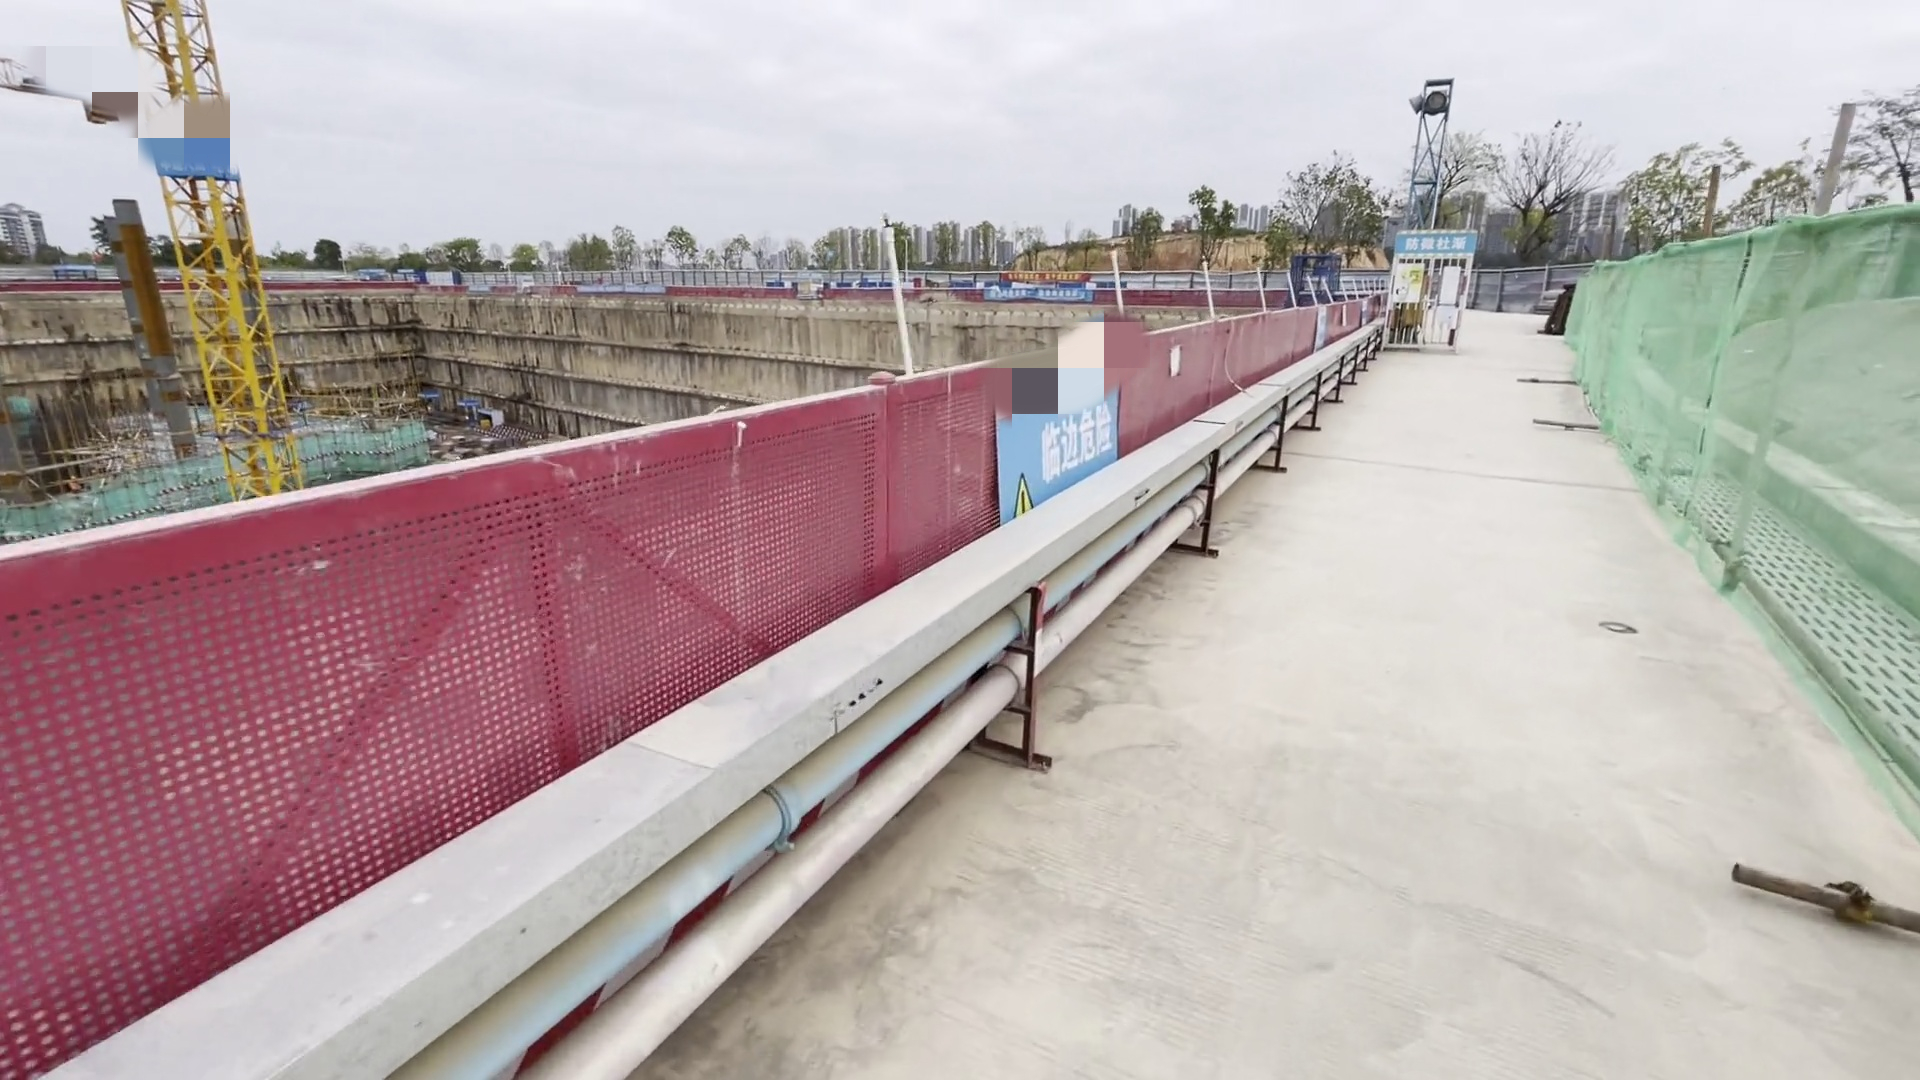fence: (1, 297, 1383, 1080)
slogan: (1007, 415, 1121, 487), (980, 256, 1100, 305), (1398, 235, 1482, 262)
